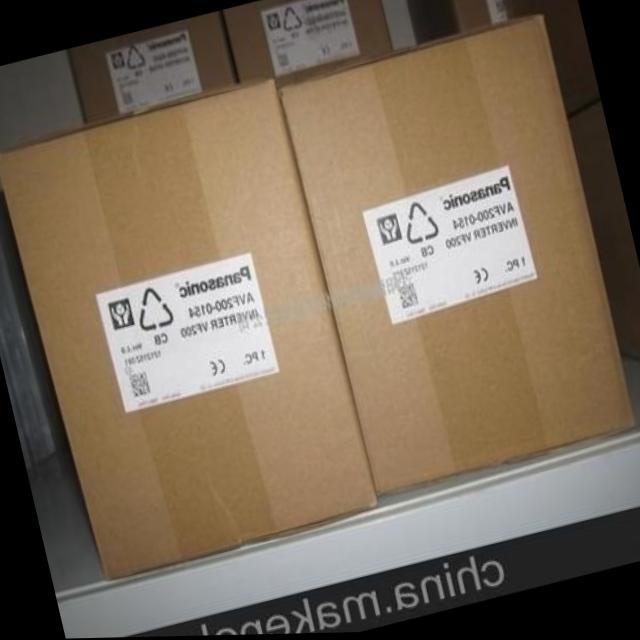box: (0, 80, 378, 582), (281, 12, 639, 497), (404, 0, 601, 118), (68, 13, 238, 128), (569, 104, 640, 363), (220, 0, 392, 86)
